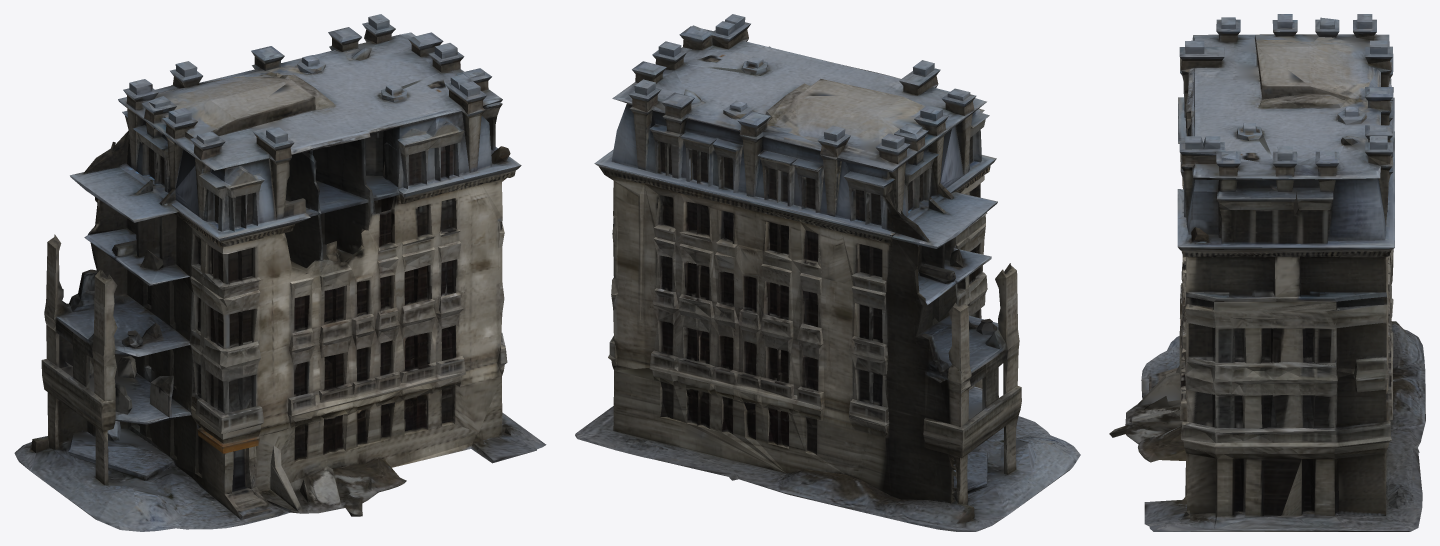
3 renders of one model, left to right at view 1: azimuth 30°, elevation 25°; view 2: azimuth 150°, elevation 25°; view 3: azimuth 270°, elevation 25°, orthographic. The views are drawn at different scales.
Parts seen in each view (by area): view 1: node_0.027; view 2: node_0.027; view 3: node_0.027.
Boxes of the visible parts, <box> form: node_0.027: <box>14,14,546,531</box>; node_0.027: <box>575,14,1080,531</box>; node_0.027: <box>1109,14,1425,531</box>.
Size of the model in its own units: 2.17 by 1.83 by 1.41.
1 material, 1 textured.
